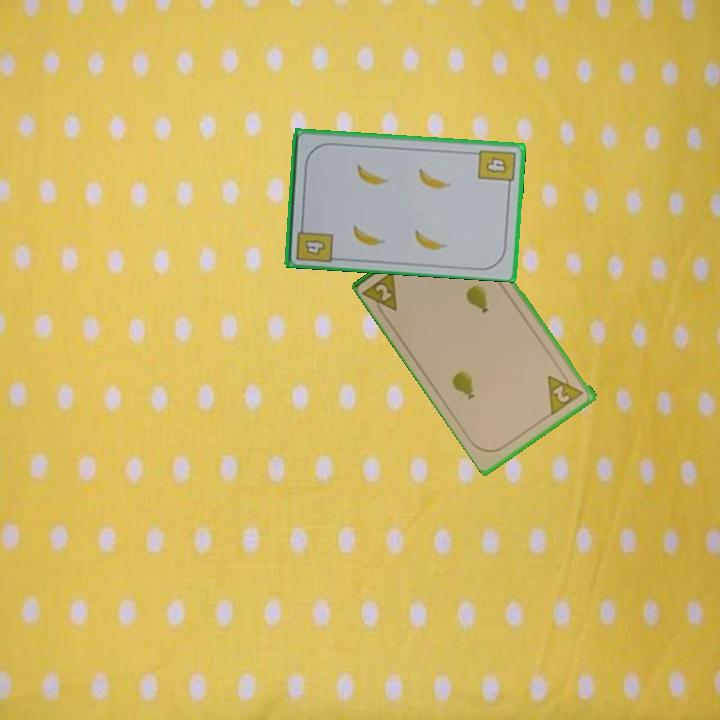2p: (544, 365, 587, 417), (361, 266, 401, 321)
4b: (293, 218, 335, 265), (474, 146, 518, 190)
